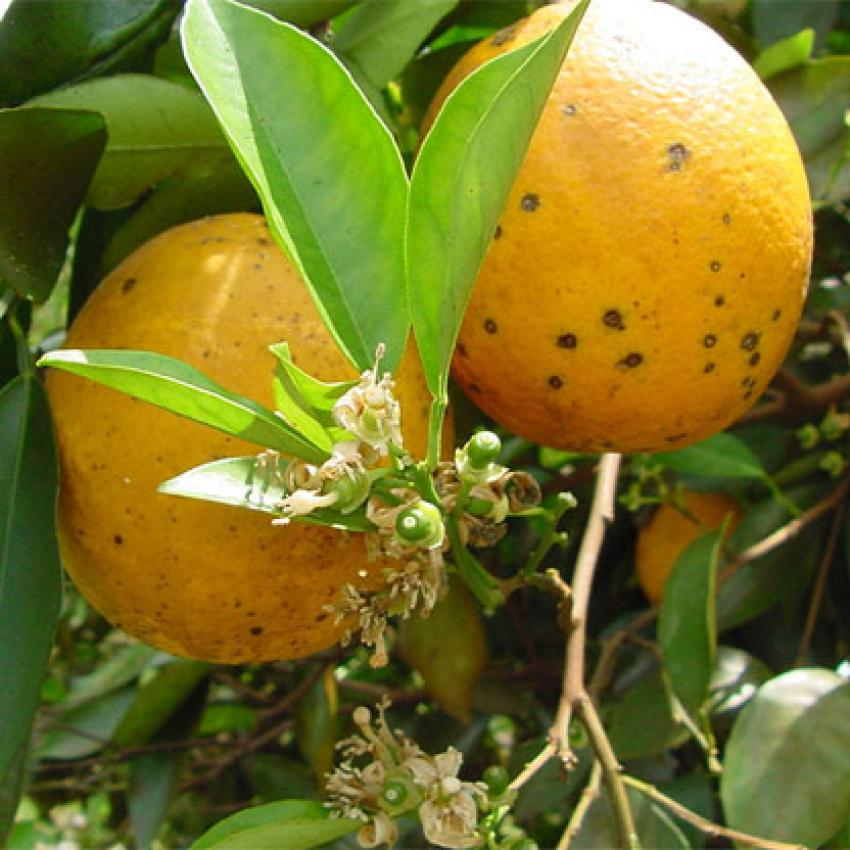Mal estado: (31, 205, 460, 674), (412, 0, 818, 473)
